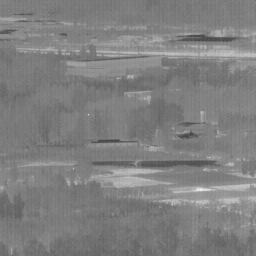aircraft: (88, 114, 90, 116)
